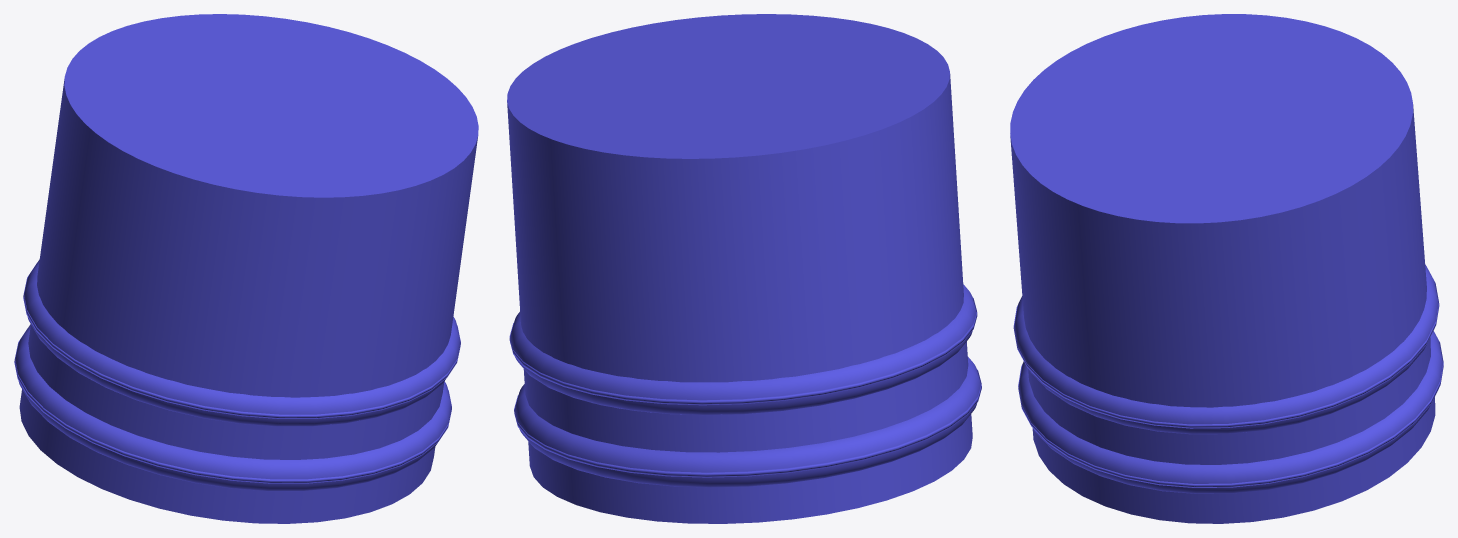
Rendered from bombilla183.obj.
3 renders of one model, left to right at view 1: azimuth 30°, elevation 25°; view 2: azimuth 150°, elevation 25°; view 3: azimuth 270°, elevation 25°, orthographic. The views are drawn at different scales.
Parts seen in each view (by area): view 1: Cylinder001, Cylinder004, Cylinder003, Cylinder002, Cylinder006; view 2: Cylinder001, Cylinder004, Cylinder003, Cylinder006, Cylinder002; view 3: Cylinder001, Cylinder004, Cylinder002, Cylinder003, Cylinder006.
Part boxes in pixels (x1,y1,x2,y2): Cylinder001: [37, 14, 478, 397]; Cylinder004: [14, 324, 451, 491]; Cylinder003: [28, 325, 444, 459]; Cylinder002: [23, 259, 460, 426]; Cylinder006: [19, 389, 435, 523]; Cylinder001: [507, 14, 963, 382]; Cylinder004: [514, 356, 981, 487]; Cylinder003: [523, 341, 968, 452]; Cylinder006: [528, 414, 972, 523]; Cylinder002: [509, 284, 977, 415]; Cylinder001: [1010, 14, 1426, 407]; Cylinder004: [1018, 331, 1443, 493]; Cylinder002: [1013, 265, 1439, 434]; Cylinder003: [1028, 338, 1430, 464]; Cylinder006: [1032, 397, 1435, 523].
Bounding box in the file's own units: 75.33 × 67.55 × 73.47.
